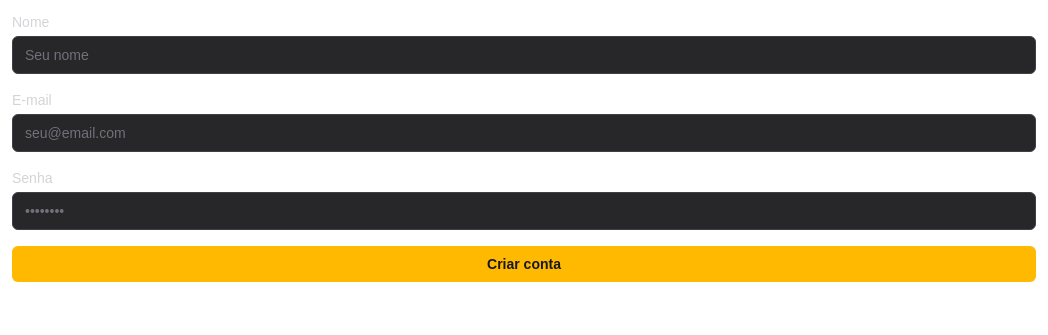
RegisterForm — erros de validação (400) › shows "O campo password é obrigatório" when backend returns 400
The width and height of the screenshot is (1048, 335).
Type "Caio" into the field labelled "Nome" at (524, 55), box [12, 36, 1036, 74]
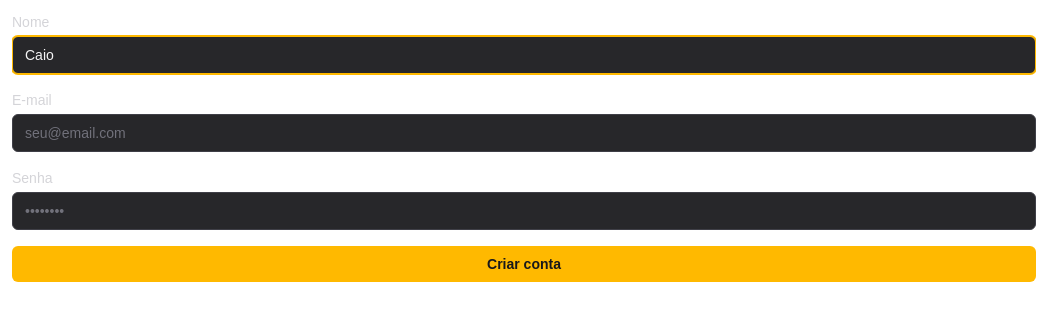
Type "caio@test.com" into the field labelled "E-mail" at (524, 133), box [12, 114, 1036, 152]
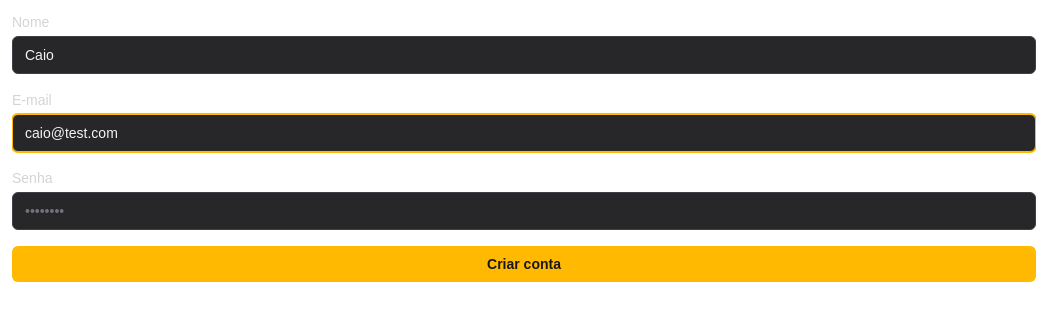
Click the button "Criar conta" at (524, 264), box [12, 246, 1036, 282]
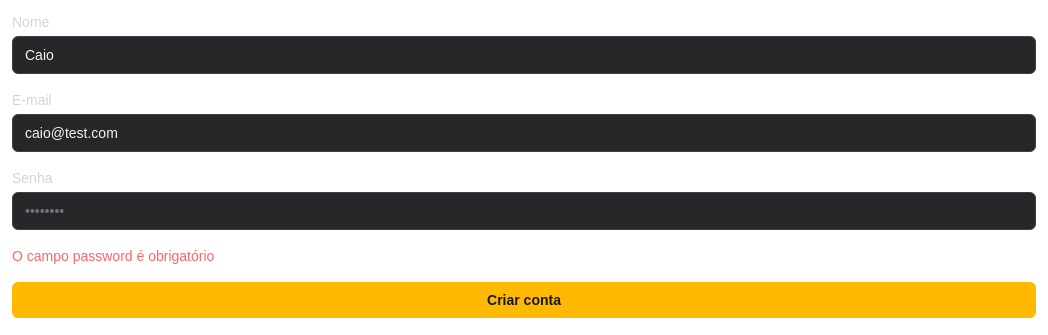
Expected: the message reads "O campo password é obrigatório", [12, 248, 214, 264]
